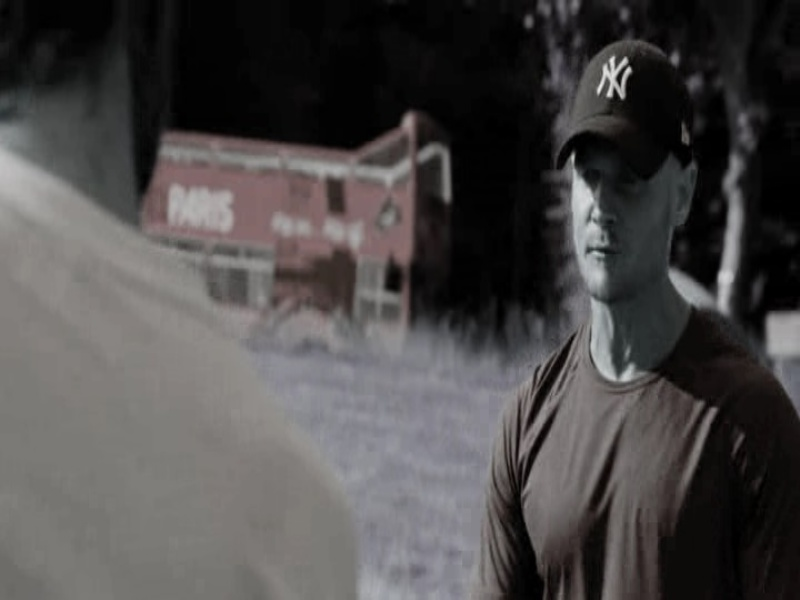TsisyArotava: (548, 70, 707, 313)
